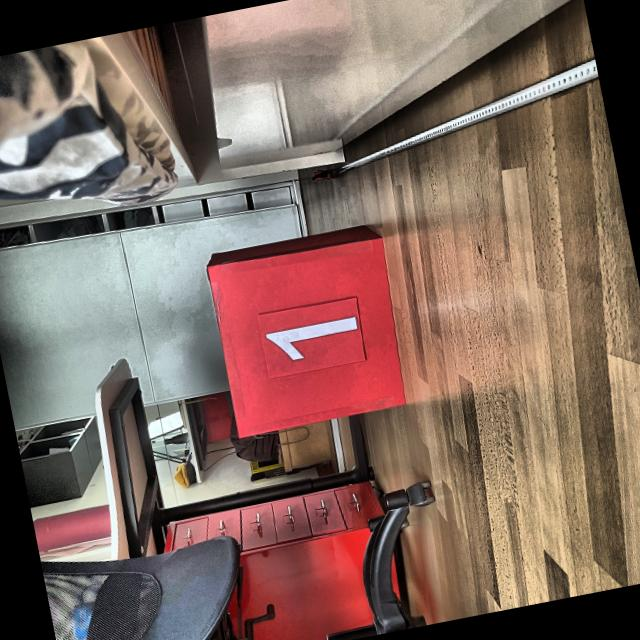one: (260, 306, 368, 372)
red box: (202, 220, 408, 440)
